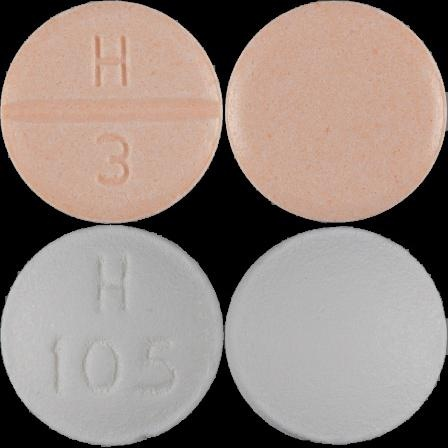66267-107: (0, 0, 224, 224)
